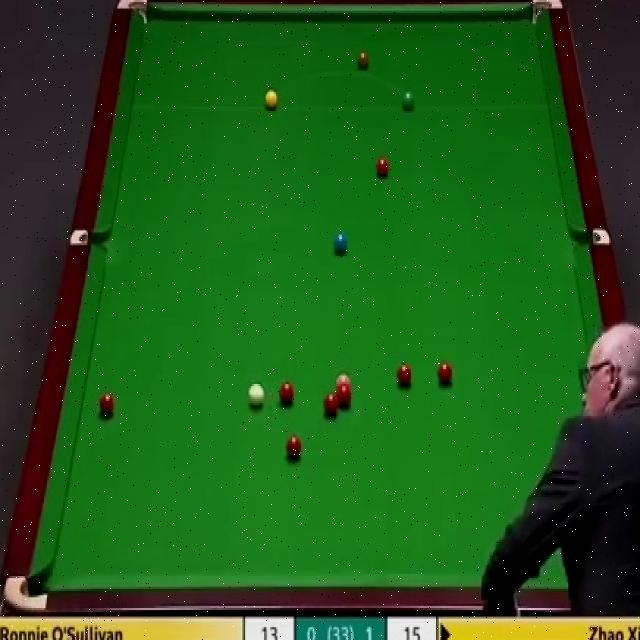blue-ball: (332, 231, 347, 254)
brown-ball: (356, 50, 369, 71)
green-ball: (400, 89, 414, 111)
pink-ball: (335, 373, 352, 389)
red-ball: (98, 391, 114, 420), (373, 155, 391, 179), (396, 363, 412, 387), (437, 361, 452, 386), (278, 382, 294, 405), (336, 383, 355, 402), (286, 436, 301, 459), (324, 394, 339, 412)
white-ball: (247, 381, 265, 409)
yellow-ball: (264, 88, 278, 110)
